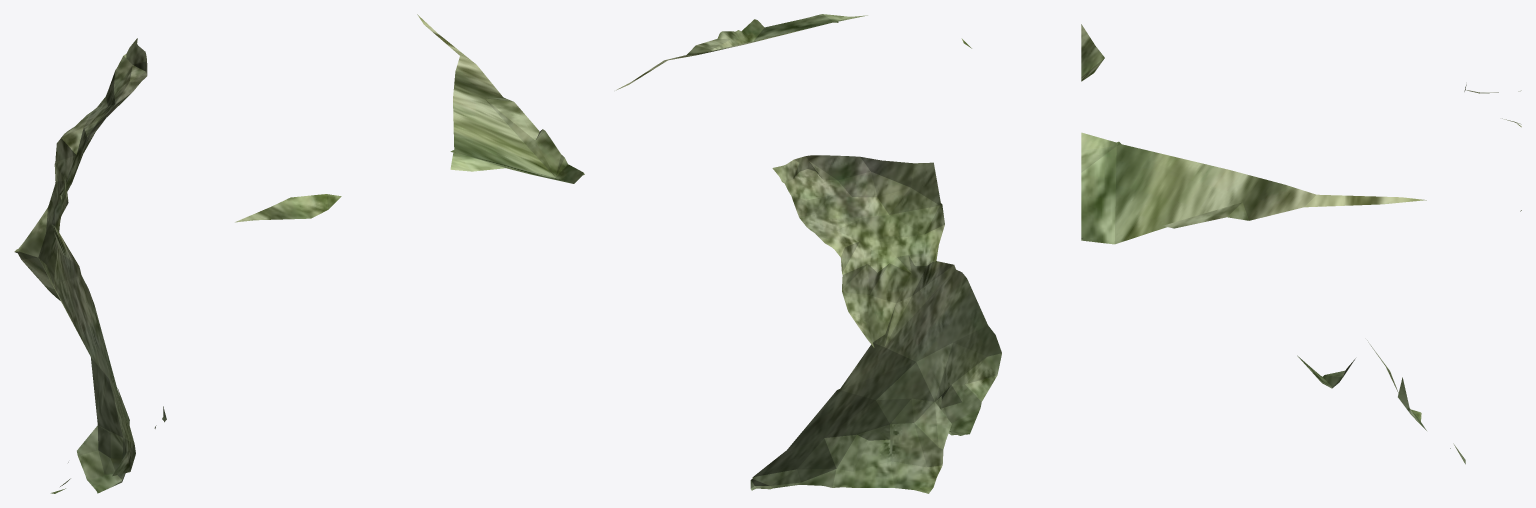
3 views of the same model, side by side, from view 1: azimuth 30°, elevation 25°; view 2: azimuth 150°, elevation 25°; view 3: azimuth 270°, elevation 25° (orthographic). The views are drawn at different scales.
Bounding box in the file's own units: 2.95 × 2.95 × 2.95.
Materials: 2 (2 with a texture image).
